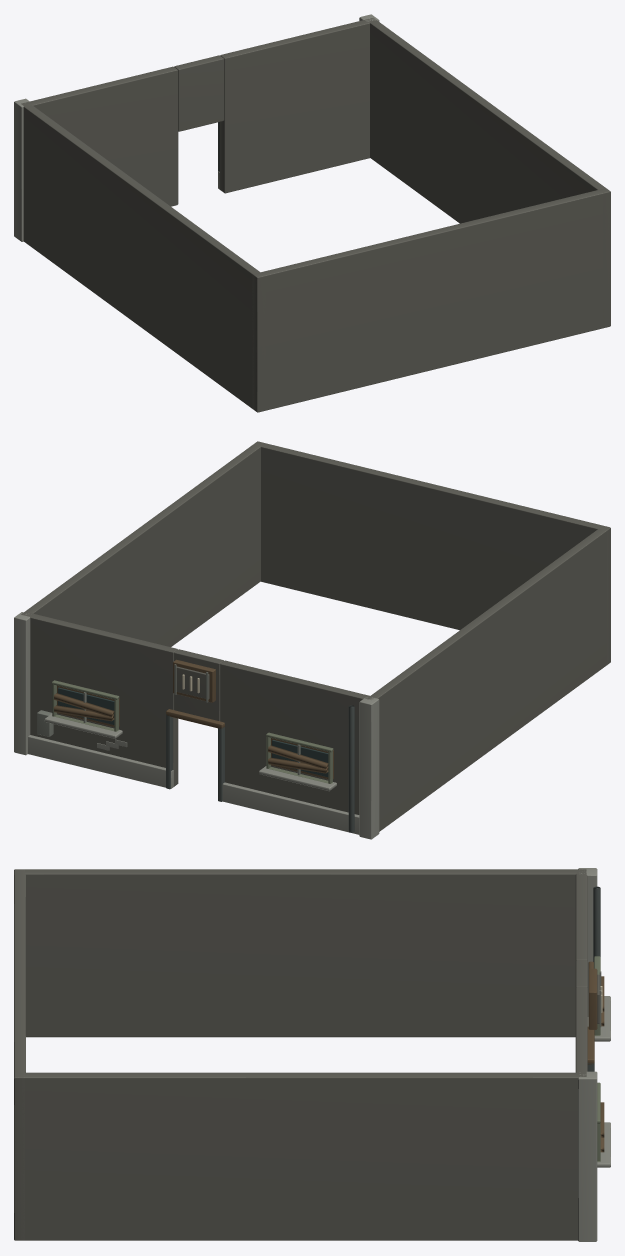
File: BlackMarket_Shell.fbx
3 views of the same model, one above another, from view 1: azimuth 30°, elevation 25°; view 2: azimuth 150°, elevation 25°; view 3: azimuth 270°, elevation 25° (orthographic). The views are drawn at different scales.
Visible parts, largest first — view 1: BlackMarket_Shell; view 2: BlackMarket_Shell; view 3: BlackMarket_Shell.
Boxes of the visible parts, bbox=[...] form: BlackMarket_Shell: bbox=[14, 14, 610, 412]; BlackMarket_Shell: bbox=[14, 441, 610, 839]; BlackMarket_Shell: bbox=[14, 868, 610, 1241].
Bounding box in the file's own units: 1244 × 450 × 1488.
